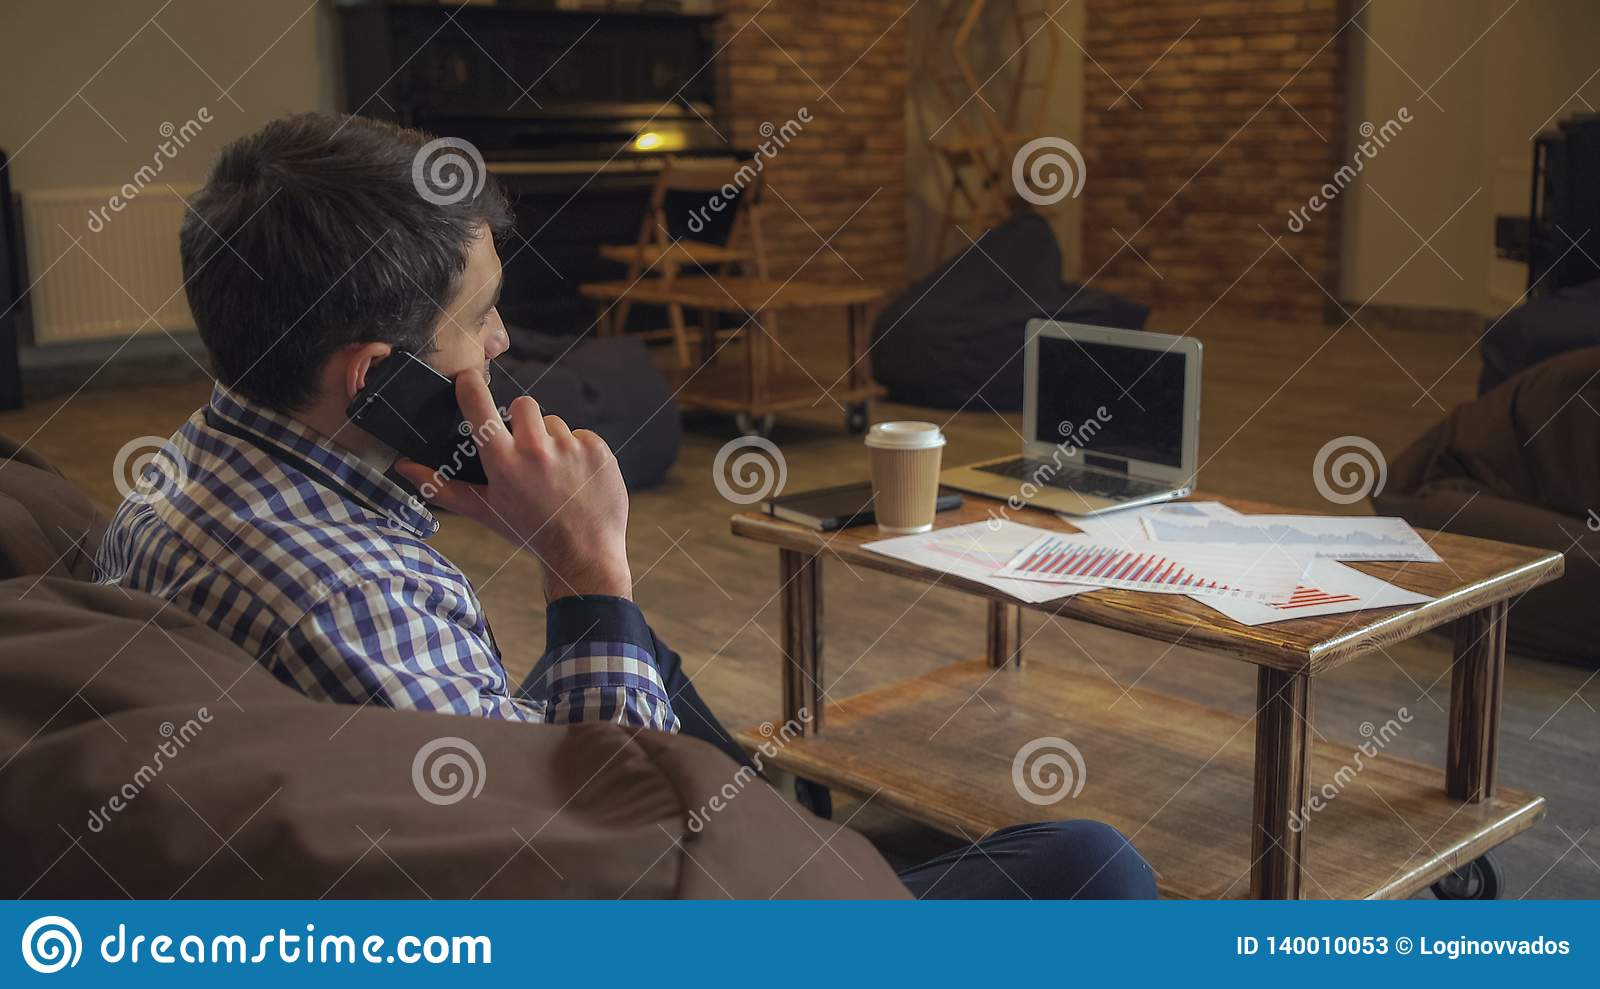phone: (344, 346, 519, 485)
